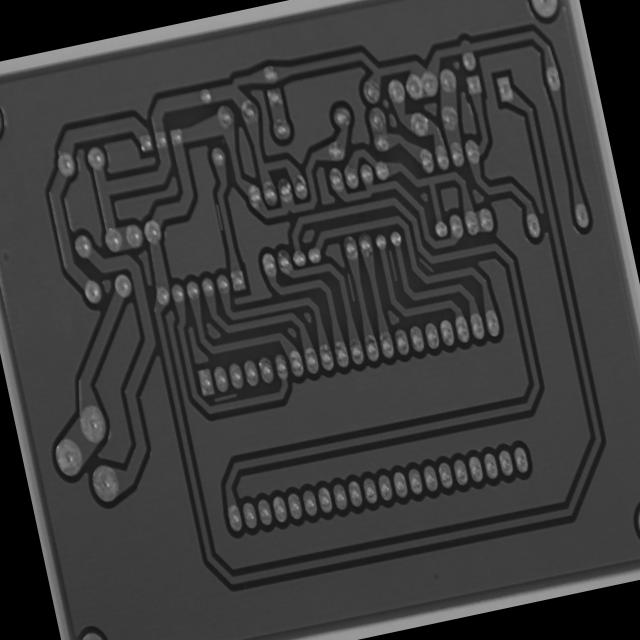spurious_copper: (207, 194, 229, 236), (382, 243, 402, 285), (340, 268, 360, 306), (208, 387, 242, 408), (414, 250, 437, 281)
